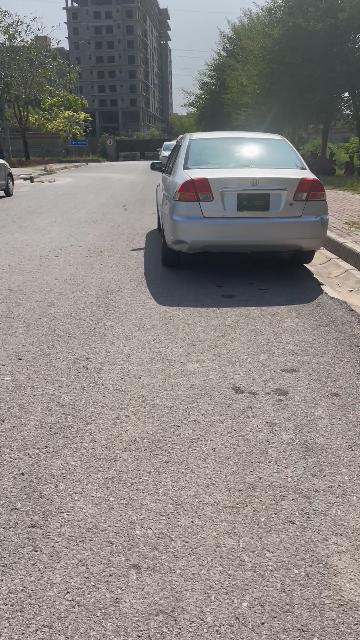plate: (236, 192, 272, 212)
